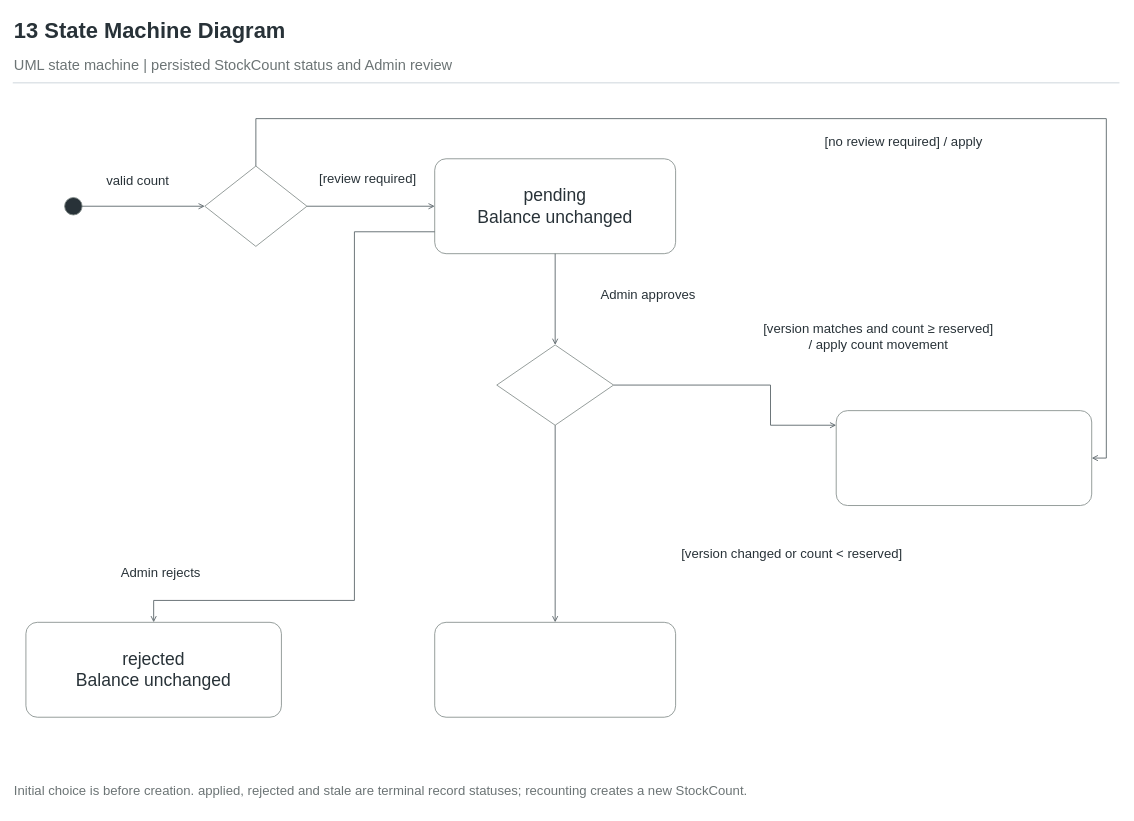
The diagram is 1134 pixels wide and 821 high, and some of its shapes have lost their labels. Each missing label, with the centre of its shape:
applied Count movement saved: (x=963, y=458)
stale New count required: (x=555, y=669)
